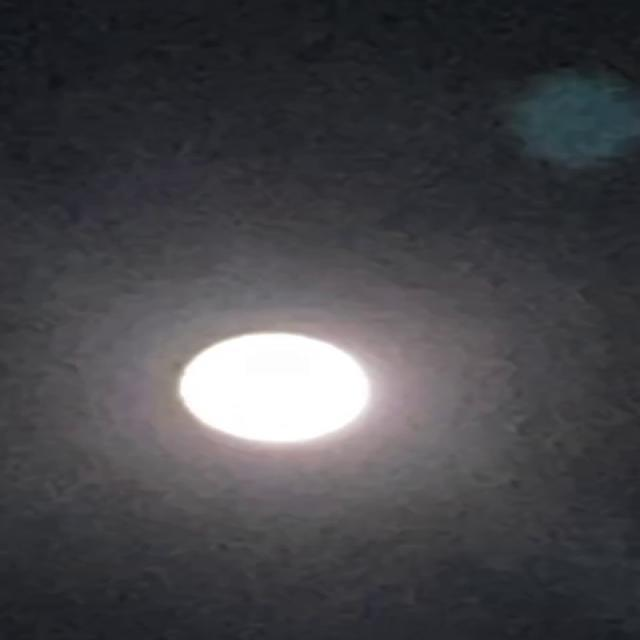moon: (146, 314, 384, 458)
